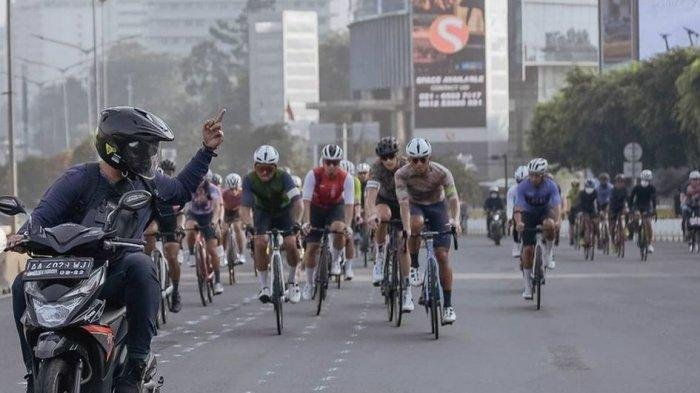motor: (9, 221, 164, 380)
